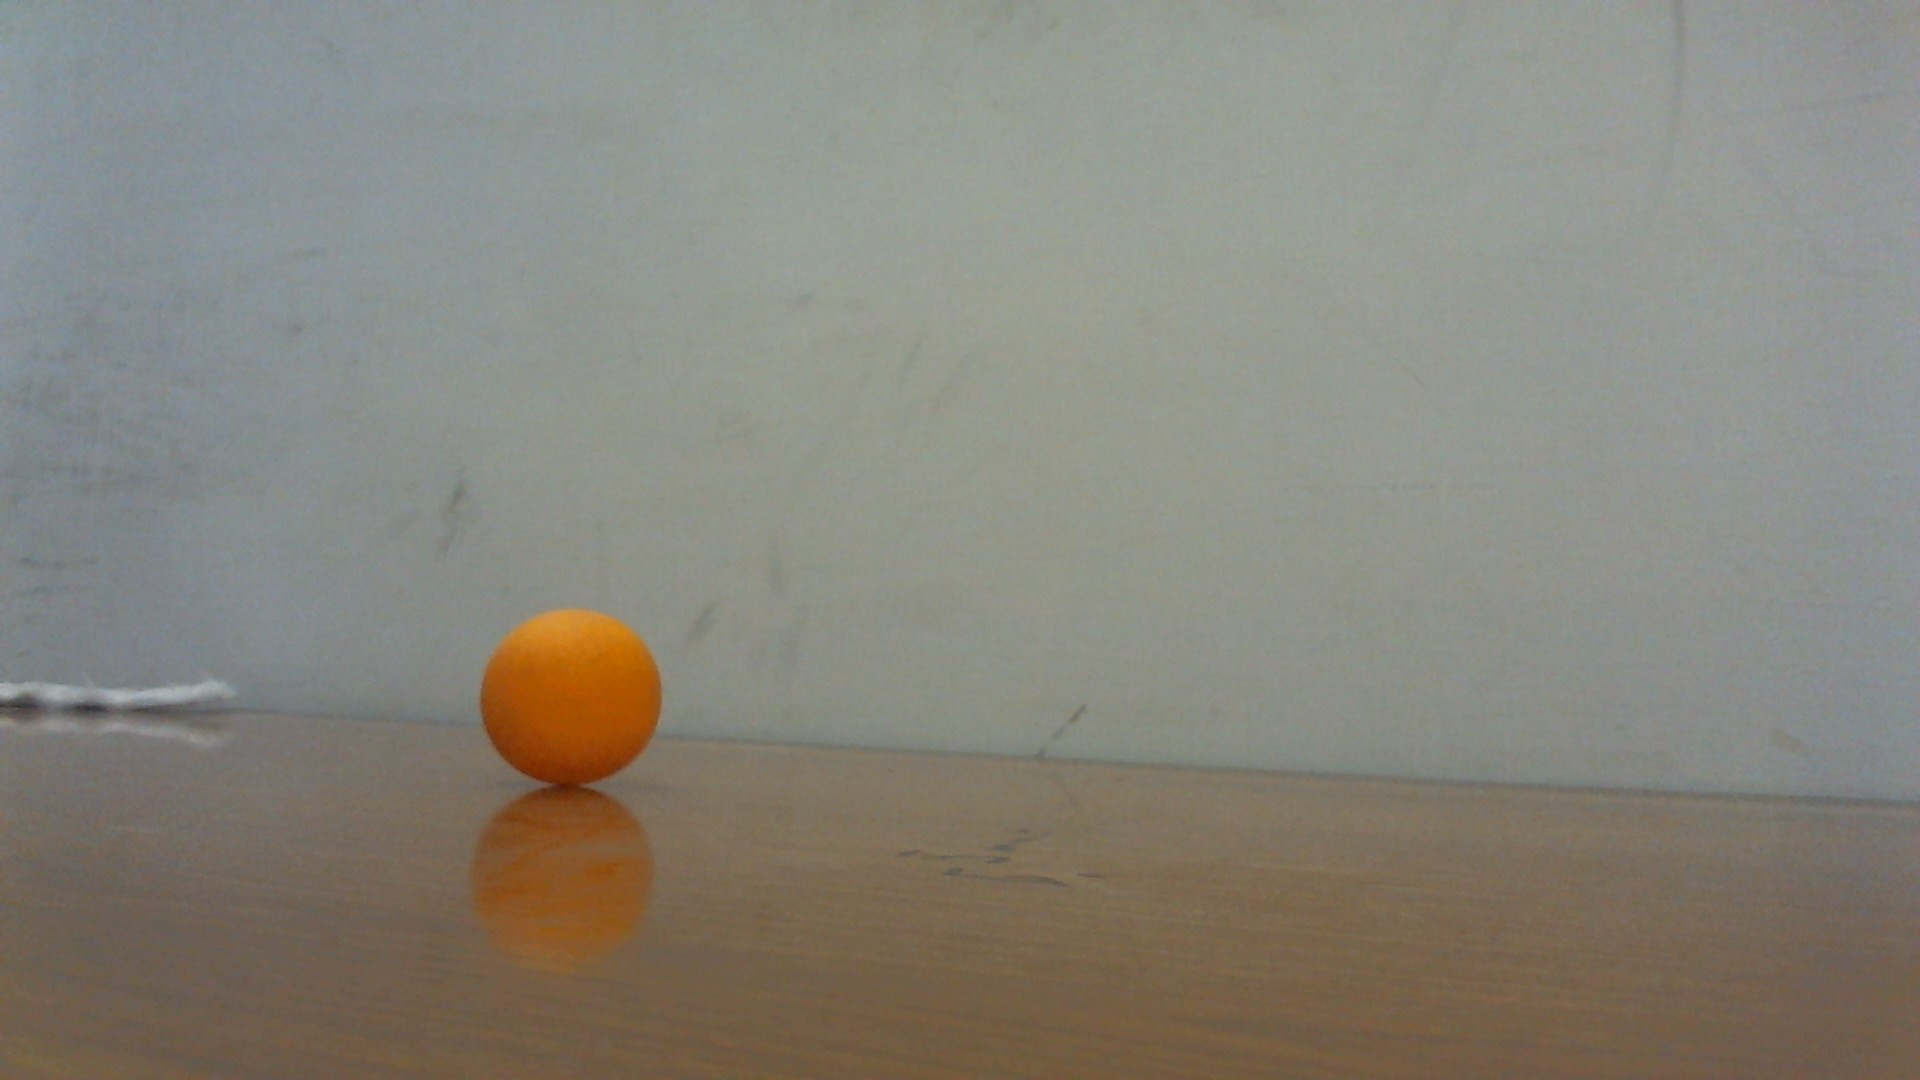ball: (481, 608, 665, 787)
